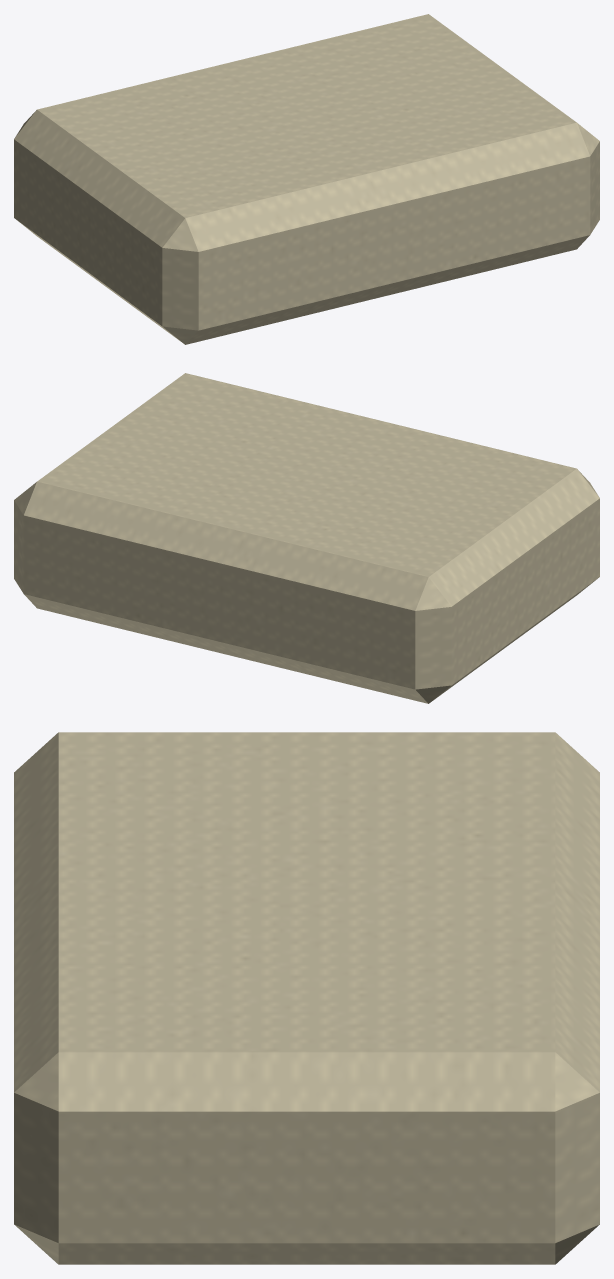
The model's file is MD_74_Pillow.fbx.
3 renders of one model, top to bottom at view 1: azimuth 30°, elevation 25°; view 2: azimuth 150°, elevation 25°; view 3: azimuth 270°, elevation 25°, orthographic. The views are drawn at different scales.
Parts seen in each view (by area): view 1: MD_74_Pillow_pillow; view 2: MD_74_Pillow_pillow; view 3: MD_74_Pillow_pillow.
Part boxes in pixels (left/top/right/bottom): MD_74_Pillow_pillow: left=14, top=14, right=599, bottom=344; MD_74_Pillow_pillow: left=14, top=373, right=599, bottom=703; MD_74_Pillow_pillow: left=14, top=732, right=599, bottom=1264.
Bounding box in the file's own units: 0.65 × 0.18 × 0.45.
1 material, 1 textured.
